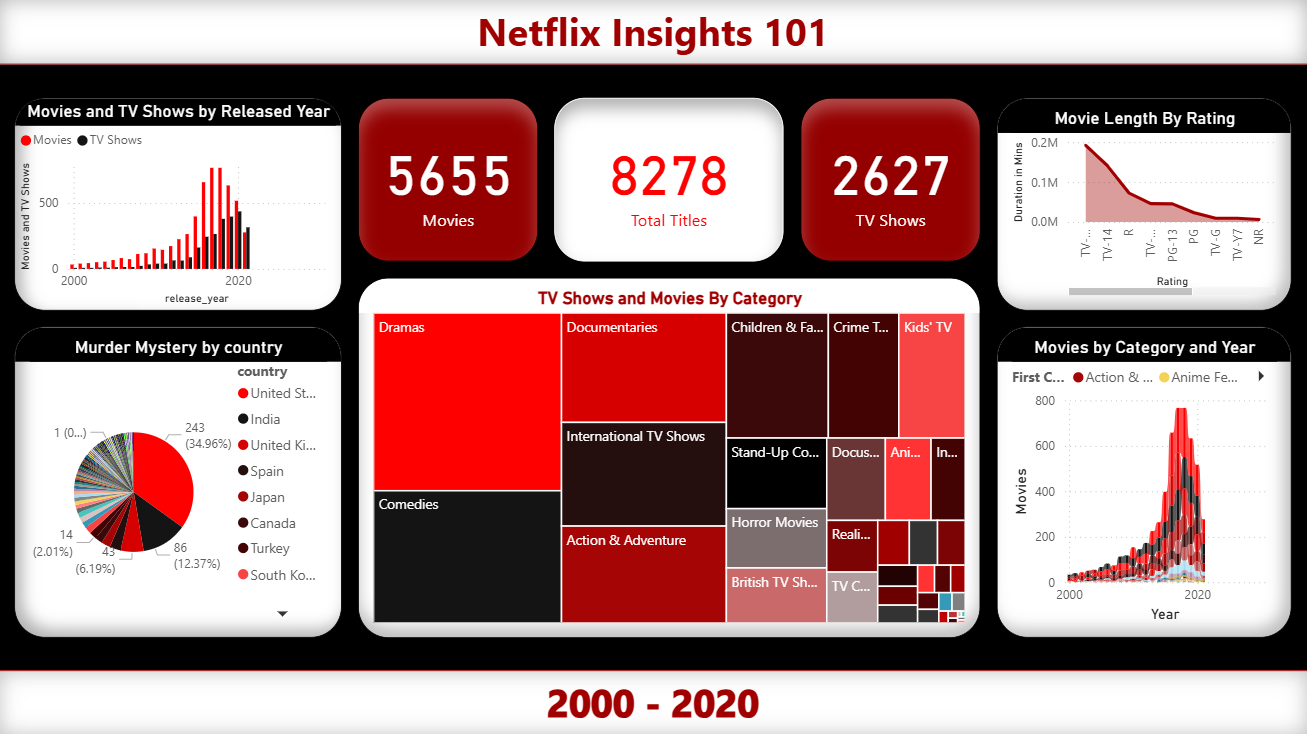

The page's visual inventory and layout, read from the dashboard file:
{"tool":"powerbi","page":{"name":"Page 1","canvas":[1280,720],"ordinal":0},"visuals":[{"type":"card","fields":{"Values":["Count(netflix_titles.title)"]},"box":[544,96,224,160],"z":0},{"type":"card","fields":{"Values":["netflix_titles.Movies"]},"box":[352,96,176,160],"z":1000},{"type":"card","fields":{"Values":["netflix_titles.TV Shows"]},"box":[784,96,176,160],"z":2000},{"type":"textbox","box":[0,0,1280,64],"z":3000},{"type":"clusteredColumnChart","title":"Movies and TV Shows by Released Year","fields":{"Category":["netflix_titles.release_year"],"Y":["netflix_titles.Movies","netflix_titles.TV Shows"]},"box":[16,96,320,208],"z":4000},{"type":"ribbonChart","title":"Movies by Category and Year","fields":{"Category":["netflix_titles.release_year"],"Series":["netflix_titles.First Category"],"Y":["netflix_titles.Movies"]},"box":[976,320,288,304],"z":5000},{"type":"areaChart","title":"Movie Length By Rating","fields":{"Y":["Sum(netflix_titles.Duration in mins)"],"Category":["netflix_titles.rating"]},"box":[976,96,288,208],"z":6000},{"type":"pieChart","fields":{"Category":["netflix_titles.country"],"Y":["netflix_titles.Murder Mystery"]},"box":[16,320,320,304],"z":7000},{"type":"treemap","title":"TV Shows and Movies By Category","fields":{"Group":["netflix_titles.First Category"],"Values":["CountNonNull(netflix_titles.title)"]},"box":[352,272,608,352],"z":8000},{"type":"textbox","box":[0,656,1280,64],"z":9000}]}

Visuals, with their boxes in screenshot pixels (x1, y1, x2, y2), scaled from the page's 1280x720 canvas onto the 1307x734 screenshot:
card - Count(netflix_titles.title): {"x1": 555, "y1": 98, "x2": 784, "y2": 261}
card - netflix_titles.Movies: {"x1": 359, "y1": 98, "x2": 539, "y2": 261}
card - netflix_titles.TV Shows: {"x1": 801, "y1": 98, "x2": 980, "y2": 261}
textbox: {"x1": 0, "y1": 0, "x2": 1306, "y2": 65}
"Movies and TV Shows by Released Year" clusteredColumnChart: {"x1": 16, "y1": 98, "x2": 343, "y2": 310}
"Movies by Category and Year" ribbonChart: {"x1": 997, "y1": 326, "x2": 1291, "y2": 636}
"Movie Length By Rating" areaChart: {"x1": 997, "y1": 98, "x2": 1291, "y2": 310}
pieChart - netflix_titles.country x netflix_titles.Murder Mystery: {"x1": 16, "y1": 326, "x2": 343, "y2": 636}
"TV Shows and Movies By Category" treemap: {"x1": 359, "y1": 277, "x2": 980, "y2": 636}
textbox: {"x1": 0, "y1": 669, "x2": 1306, "y2": 733}
